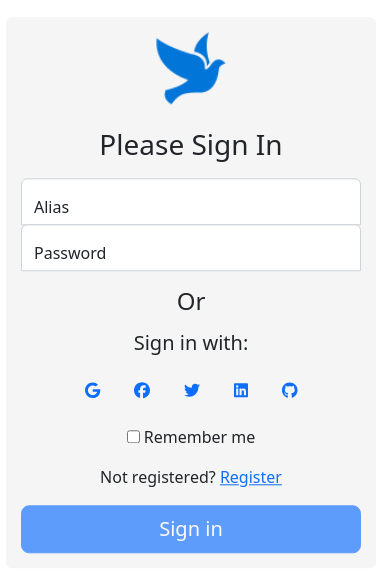
Test: Login › The sign-in button is disabled if either the alias or password field is cleared
Type "COOL ALIAS" into the field labelled "Alias" at [191, 201], box [21, 178, 361, 225]
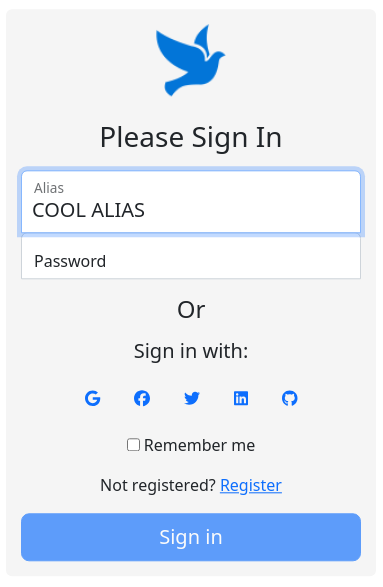
Type "COOL PASSWORD" into the password field labelled "Password" at [191, 255], box [21, 232, 361, 279]
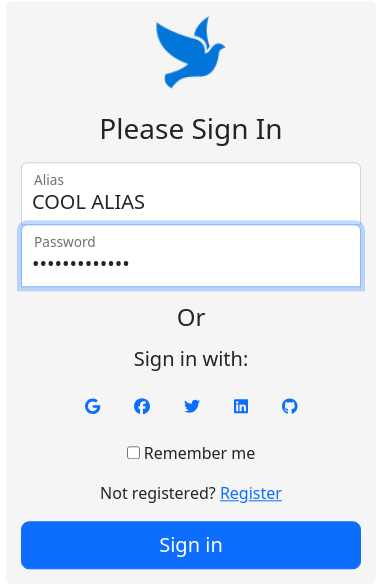
Check: the button "Sign in" is enabled, box [21, 522, 361, 570]
Clear the field labelled "Alias" at [191, 193], box [21, 162, 361, 225]
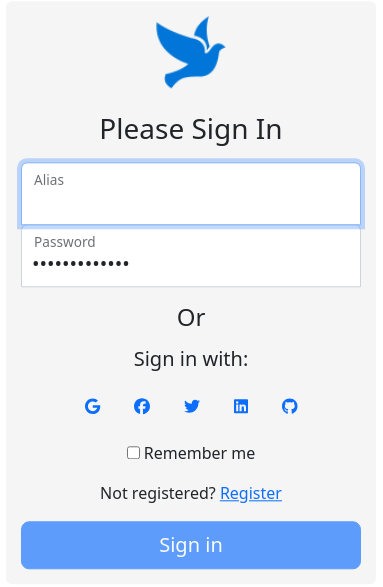
Check: the button "Sign in" is disabled, box [21, 522, 361, 570]
Type "COOL ALIAS" into the field labelled "Alias" at [191, 193], box [21, 162, 361, 225]
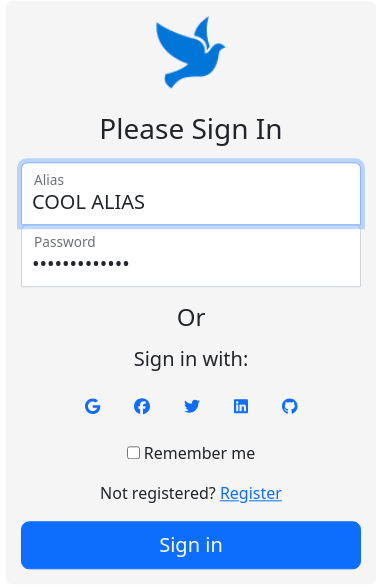
Check: the button "Sign in" is enabled, box [21, 522, 361, 570]
Clear the password field labelled "Password" at [191, 255], box [21, 224, 361, 287]
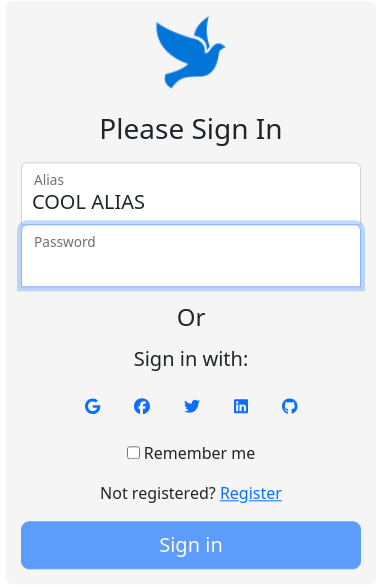
Check: the button "Sign in" is disabled, box [21, 522, 361, 570]
